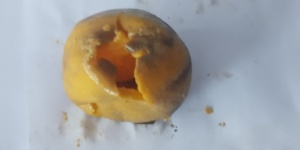BAD: (60, 7, 193, 125)
